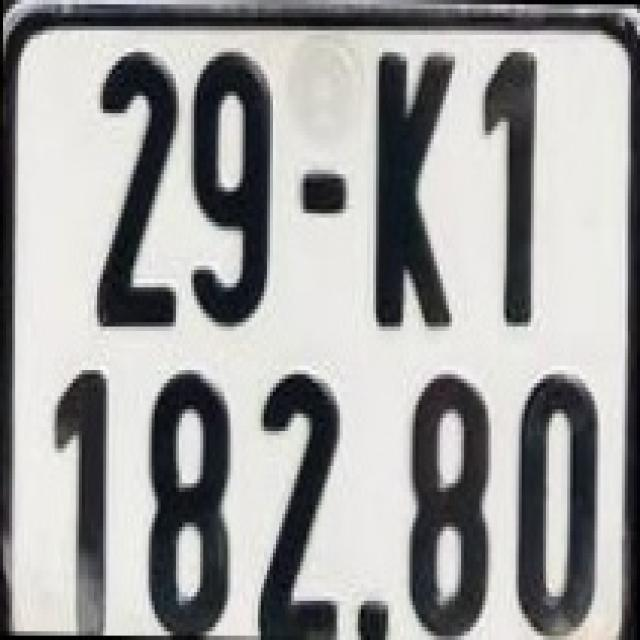0: (511, 366, 602, 636)
1: (46, 362, 121, 632), (478, 48, 548, 326)
2: (86, 41, 184, 333), (250, 363, 350, 638)
8: (140, 359, 236, 634), (402, 361, 496, 636)
9: (185, 45, 279, 328)
K: (370, 46, 458, 333)
